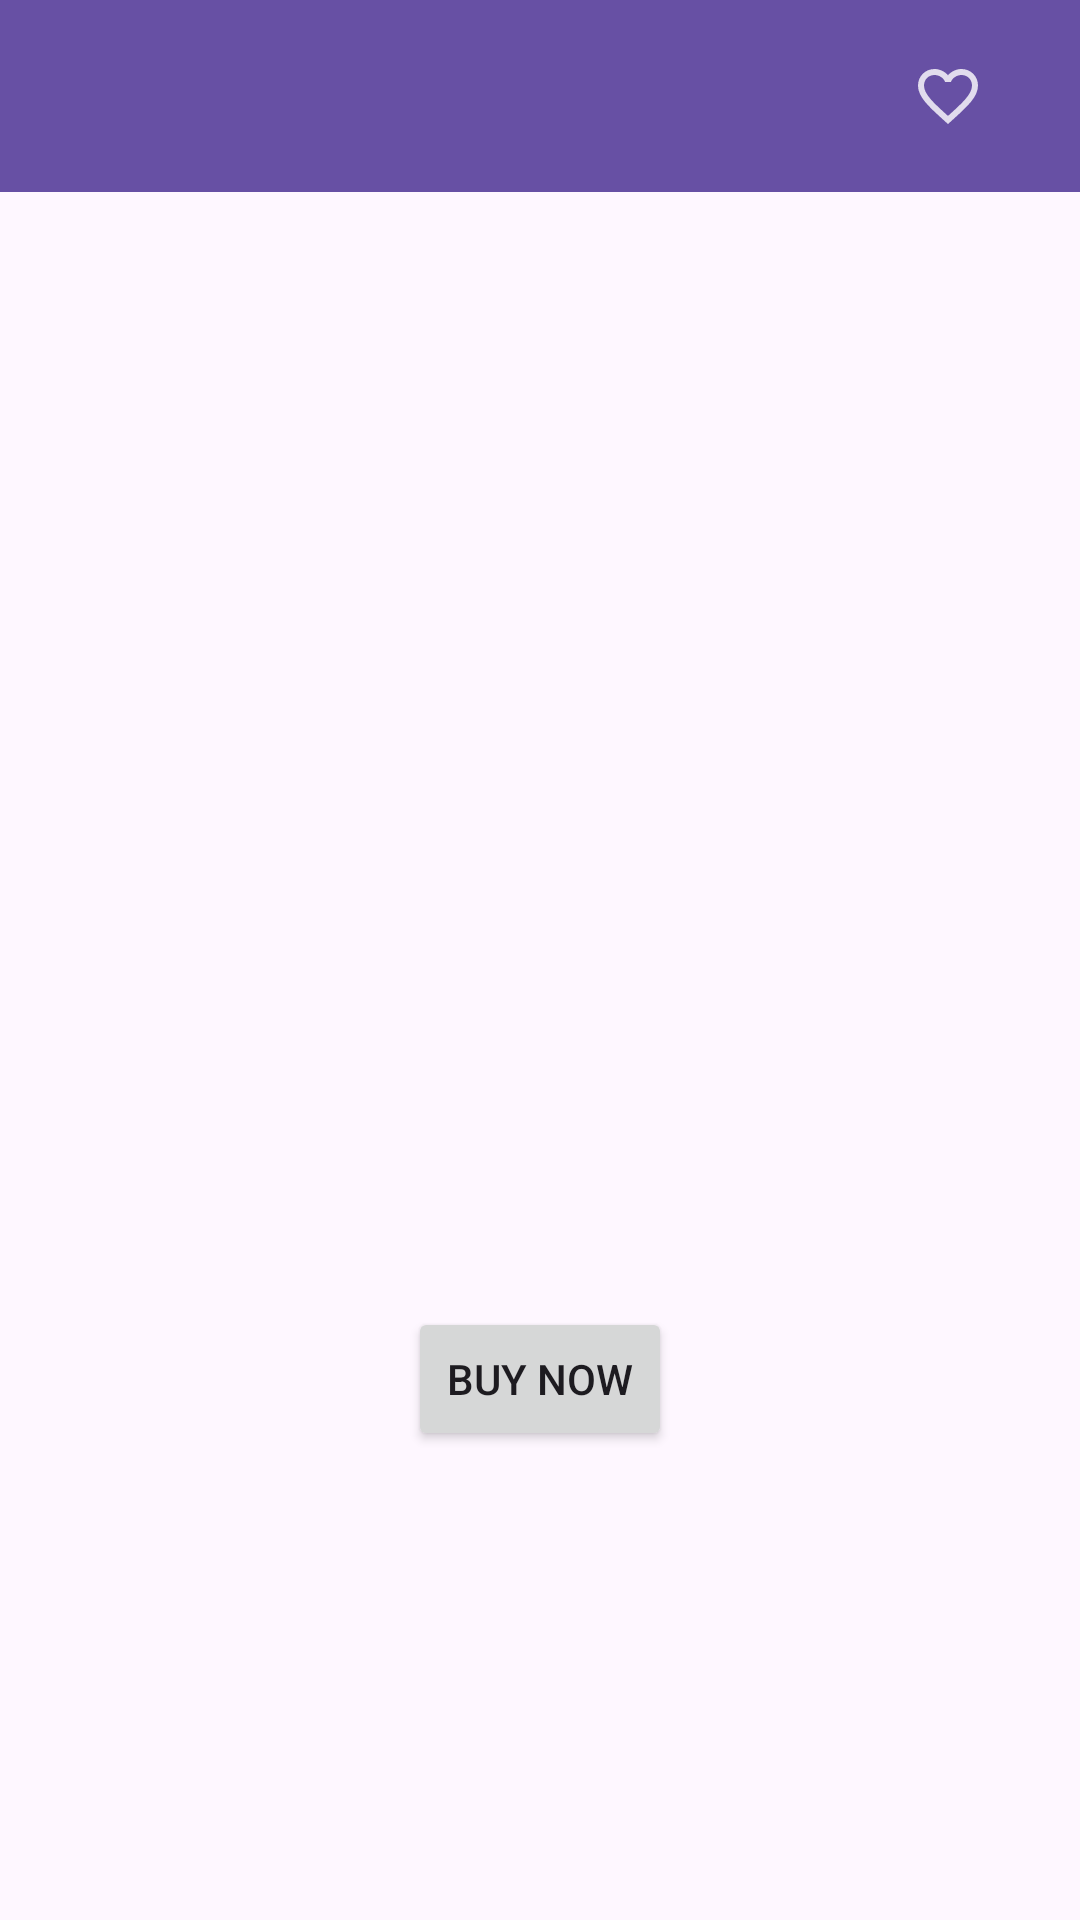

Icons on this 1080×1920 Android screen, each with its box as (x1, y1, x2, y2):
Favorite Icon: (918, 69, 978, 124)
